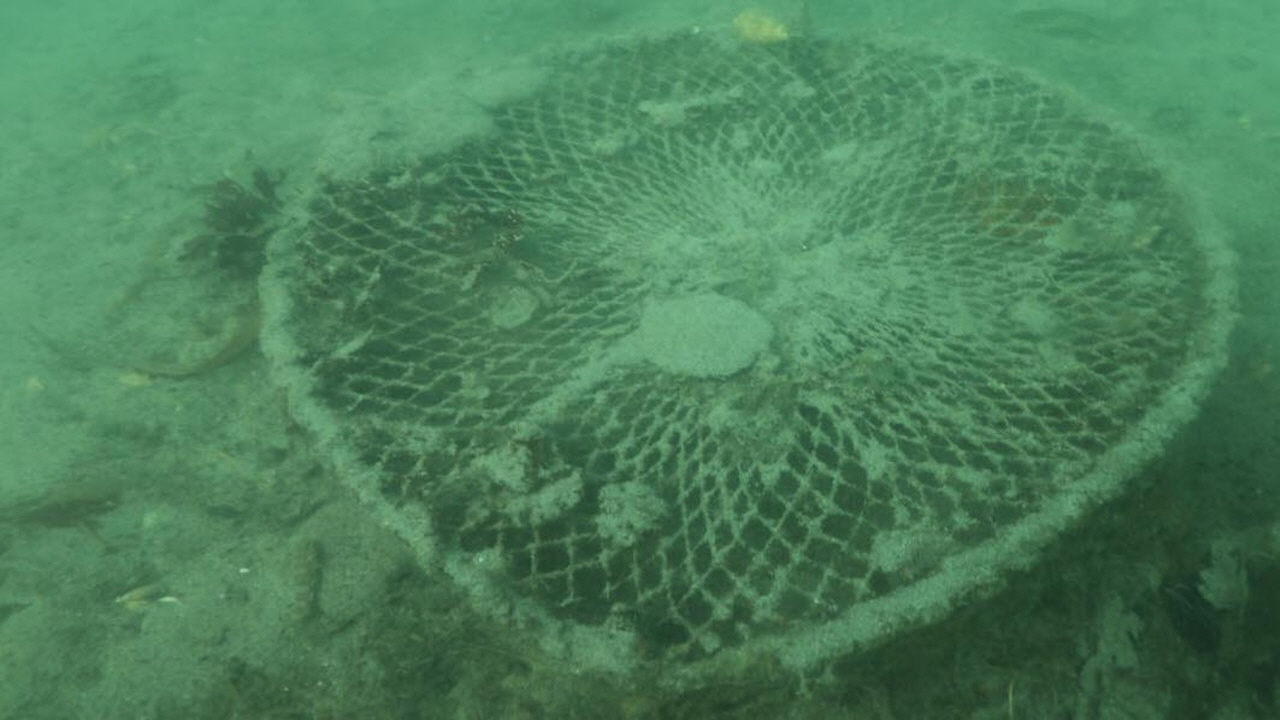circular fish trap: (260, 22, 1235, 687)
